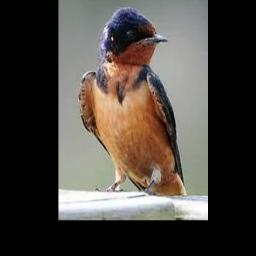Swallow: (78, 5, 186, 196)
